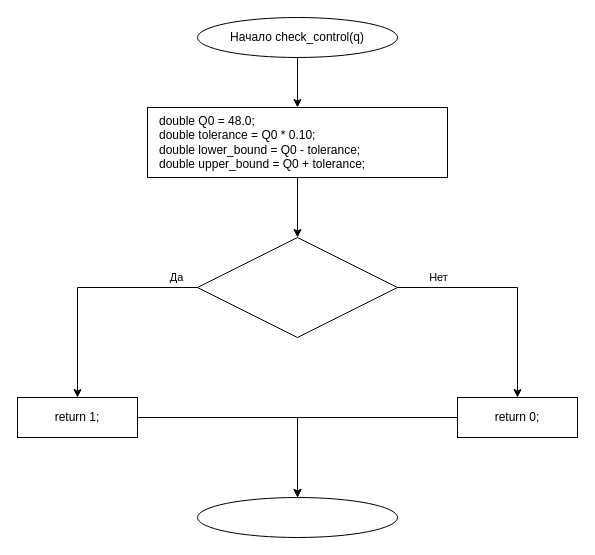
The diagram is 595 pixels wide and 555 high, and some of its shapes have lost their labels. Each missing label, with the box of its shape:
q >= lower_bound && q <= upper_bound: (196, 236, 398, 338)
Конец check_control: (196, 496, 398, 538)
